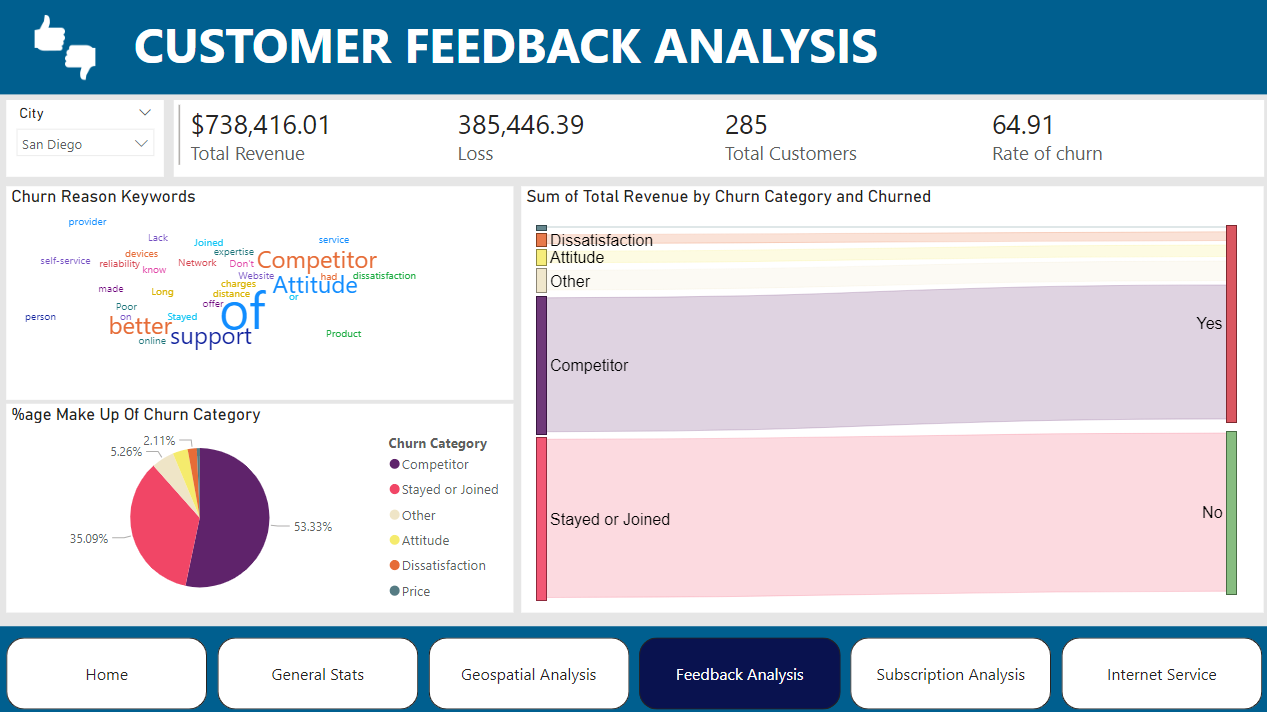

Layout of this report page (visuals, bound fields, positions):
{"tool":"powerbi","page":{"name":"Feedback Analysis","canvas":[1280,720],"ordinal":3},"visuals":[{"type":"shape","box":[0,0,1279.9,720],"z":0},{"type":"shape","box":[0,625.9,1279.9,94.1],"z":1000},{"type":"shape","box":[0,0,1279.9,94.1],"z":2000},{"type":"pieChart","title":"%age Make Up Of Churn Category","fields":{"Y":["CountNonNull(telecom_customer_churn_preprocessed_1.Churn Category)"],"Category":["telecom_customer_churn_preprocessed_1.Churn Category"]},"box":[11,403.4,507.3,209],"z":3000},{"type":"WordCloud1447959067750","title":"Churn Reason Keywords","fields":{"Category":["telecom_customer_churn_preprocessed_1.Churn Reason"]},"box":[11,185.8,507.3,213.9],"z":4000},{"type":"sankey02300D1BE6F5427989F3DE31CCA9E0F32020","fields":{"Source":["telecom_customer_churn_preprocessed_1.Churn Category"],"Destination":["telecom_customer_churn_preprocessed_1.Churned"],"Weight":["Sum(telecom_customer_churn_preprocessed_1.Total Revenue)"]},"box":[526.9,185.8,742,426.6],"z":5000},{"type":"multiRowCard","fields":{"Values":["Sum(telecom_customer_churn_preprocessed_1.Total Revenue)","telecom_customer_churn_preprocessed_1.Loss","telecom_customer_churn_preprocessed_1.Total_Customers","telecom_customer_churn_preprocessed_1.Rate_of_churn"]},"box":[178.5,100.2,1090.4,77],"z":6000},{"type":"slicer","fields":{"Values":["telecom_customer_churn_preprocessed_1.City"]},"box":[11,100.2,157.7,77],"z":7000},{"type":"pageNavigator","box":[11,636.9,1256.6,72.1],"z":8000},{"type":"textbox","box":[133.2,6.1,1121,81.9],"z":9000},{"type":"image","box":[19.6,4.9,100.2,85.6],"z":9001}]}

Visuals, with their boxes in screenshot pixels (x1, y1, x2, y2), scaled from the page's 1280x720 canvas onto the 1267x712 screenshot:
shape: 0 0 1266 711
shape: 0 619 1266 711
shape: 0 0 1266 93
"%age Make Up Of Churn Category" pieChart: 11 399 513 606
"Churn Reason Keywords" WordCloud1447959067750: 11 184 513 395
sankey02300D1BE6F5427989F3DE31CCA9E0F32020 - telecom_customer_churn_preprocessed_1.Churn Category x telecom_customer_churn_preprocessed_1.Churned: 522 184 1256 606
multiRowCard - Sum(telecom_customer_churn_preprocessed_1.Total Revenue) x telecom_customer_churn_preprocessed_1.Loss: 177 99 1256 175
slicer - telecom_customer_churn_preprocessed_1.City: 11 99 167 175
pageNavigator: 11 630 1255 701
textbox: 132 6 1241 87
image: 19 5 119 89
